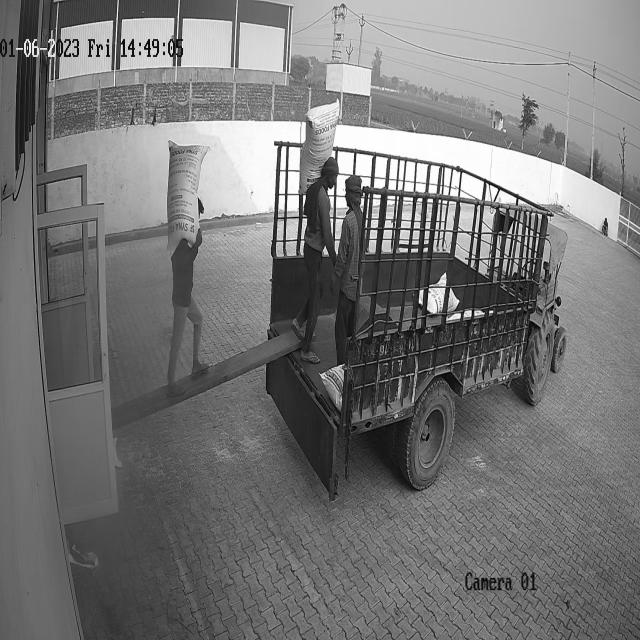sack: (298, 100, 339, 193)
